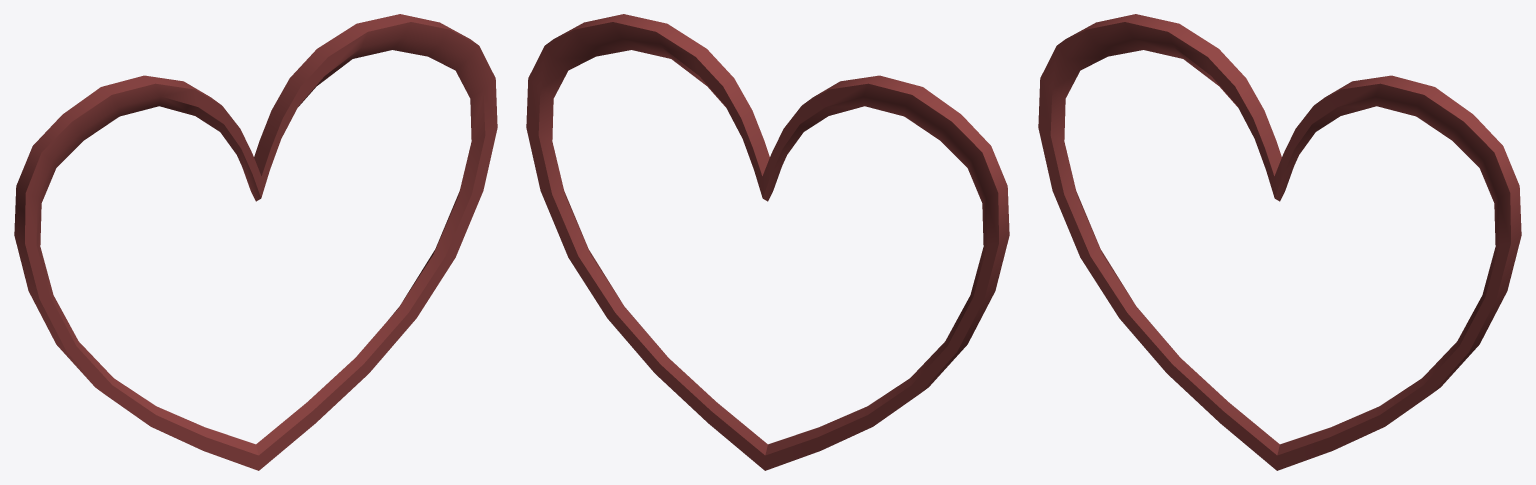
The model's file is Heart_Outline.gltf.
The picture shows the model from 3 angles, left to right: view 1: azimuth 30°, elevation 25°; view 2: azimuth 150°, elevation 25°; view 3: azimuth 330°, elevation 25°; orthographic projection.
Visible parts, largest first — view 1: Heart_Outline; view 2: Heart_Outline; view 3: Heart_Outline.
Part boxes in pixels (left/top/right/bottom): Heart_Outline: left=14, top=14, right=497, bottom=470; Heart_Outline: left=526, top=14, right=1009, bottom=470; Heart_Outline: left=1038, top=14, right=1521, bottom=470.
Bounding box in the file's own units: 1.48 × 1.24 × 0.0607.
